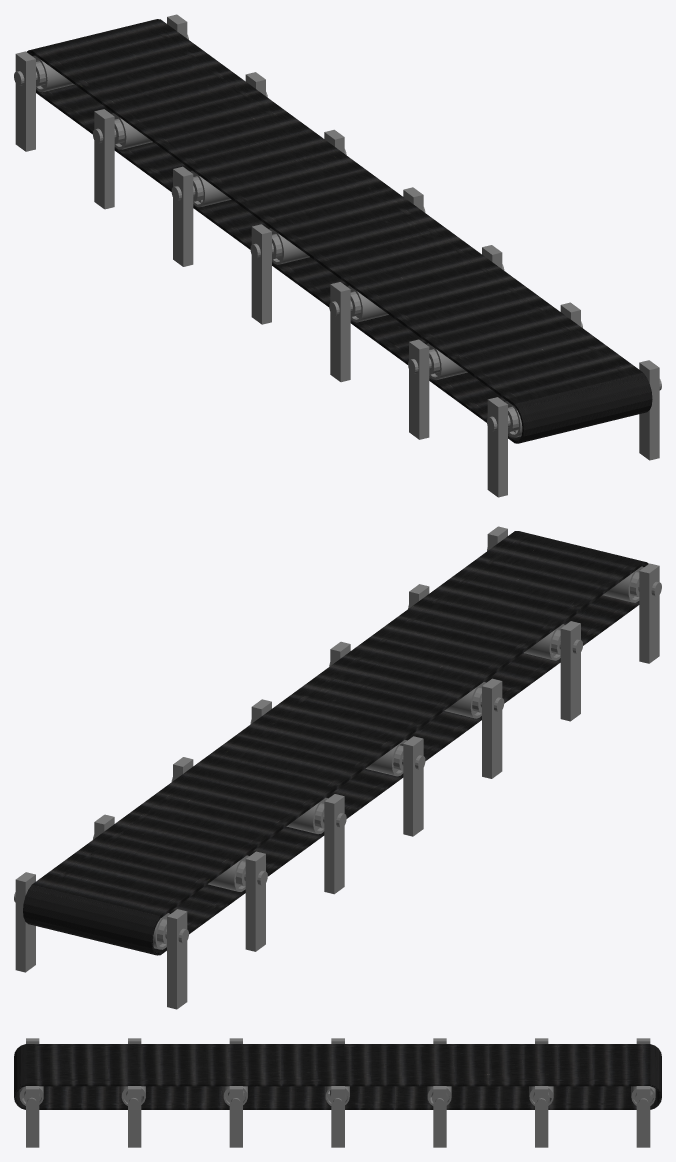
The model's file is Conveyorbelt.fbx.
3 renders of one model, top to bottom at view 1: azimuth 30°, elevation 25°; view 2: azimuth 150°, elevation 25°; view 3: azimuth 270°, elevation 25°, orthographic. The views are drawn at different scales.
Visible parts, largest first — view 1: Cylinder.001, Cylinder.002, Cylinder; view 2: Cylinder.001, Cylinder.002, Cylinder; view 3: Cylinder.001, Cylinder.002, Cylinder.
Part boxes in pixels (<box>): Cylinder.001: <box>27,19,652,443</box>; Cylinder.002: <box>15,14,659,497</box>; Cylinder: <box>14,34,661,437</box>; Cylinder.001: <box>23,531,648,955</box>; Cylinder.002: <box>15,526,659,1009</box>; Cylinder: <box>14,547,661,949</box>; Cylinder.001: <box>14,1044,661,1109</box>; Cylinder.002: <box>26,1038,650,1147</box>; Cylinder: <box>19,1086,655,1107</box>.
Bounding box in the file's own units: 2.05 × 10.61 × 1.06.
Materials: 3 (1 with a texture image).
